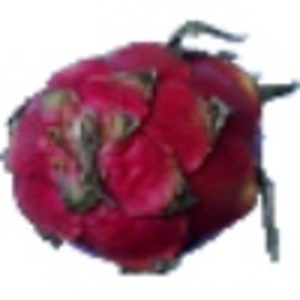pitaia: (1, 19, 300, 277)
